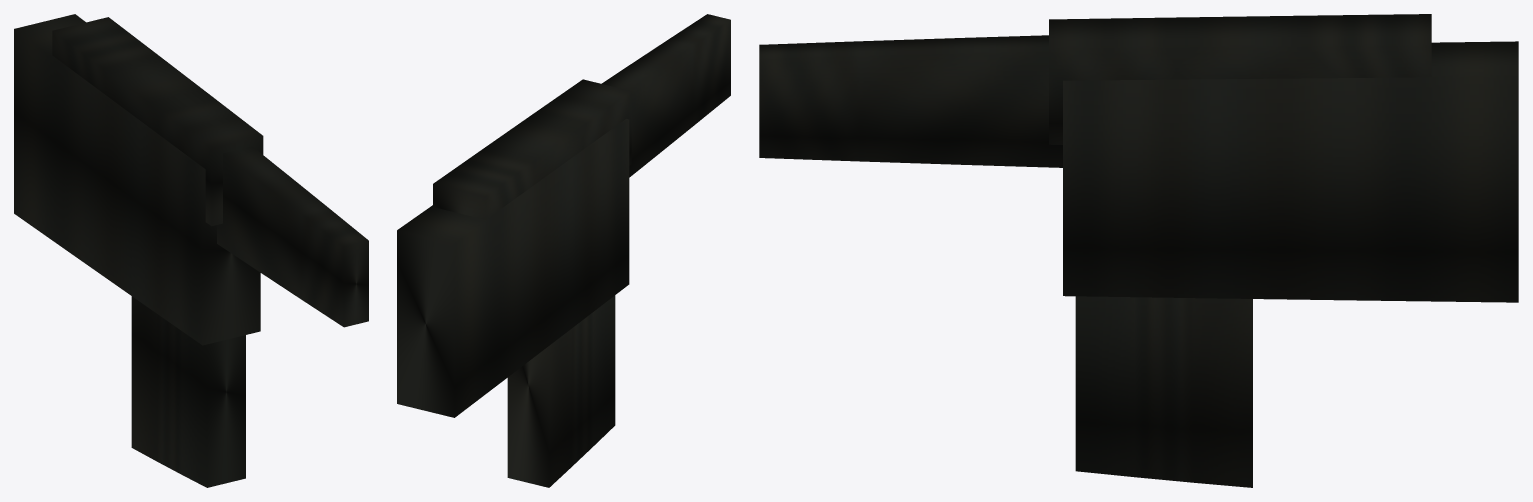
File: wpn_m9_beretta.glb
3 views of the same model, side by side, from view 1: azimuth 30°, elevation 25°; view 2: azimuth 150°, elevation 25°; view 3: azimuth 270°, elevation 25° (orthographic). The views are drawn at different scales.
Visible parts, largest first — view 1: SubMesh_0_Receiver, SubMesh_2_Magazine, SubMesh_3_BarrelSight, SubMesh_1_Action; view 2: SubMesh_0_Receiver, SubMesh_2_Magazine, SubMesh_1_Action, SubMesh_3_BarrelSight; view 3: SubMesh_0_Receiver, SubMesh_3_BarrelSight, SubMesh_2_Magazine, SubMesh_1_Action.
Boxes of the visible parts, x1,y1,x2,y2 form: SubMesh_0_Receiver: (14, 14, 260, 345); SubMesh_2_Magazine: (131, 296, 245, 487); SubMesh_3_BarrelSight: (217, 146, 368, 327); SubMesh_1_Action: (52, 17, 263, 226); SubMesh_0_Receiver: (397, 119, 629, 417); SubMesh_2_Magazine: (507, 295, 615, 487); SubMesh_1_Action: (433, 79, 631, 219); SubMesh_3_BarrelSight: (601, 14, 730, 177); SubMesh_0_Receiver: (1063, 41, 1518, 302); SubMesh_3_BarrelSight: (759, 35, 1062, 167); SubMesh_2_Magazine: (1075, 296, 1252, 487); SubMesh_1_Action: (1049, 14, 1431, 144).
Bounding box in the file's own units: 0.034 × 0.1936 × 0.3.
1 material, 1 textured.
